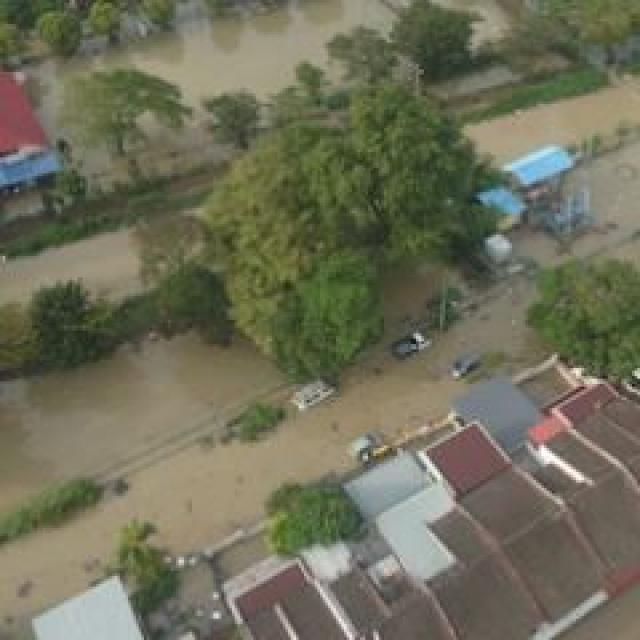flooded_areas: (0, 0, 629, 594)
